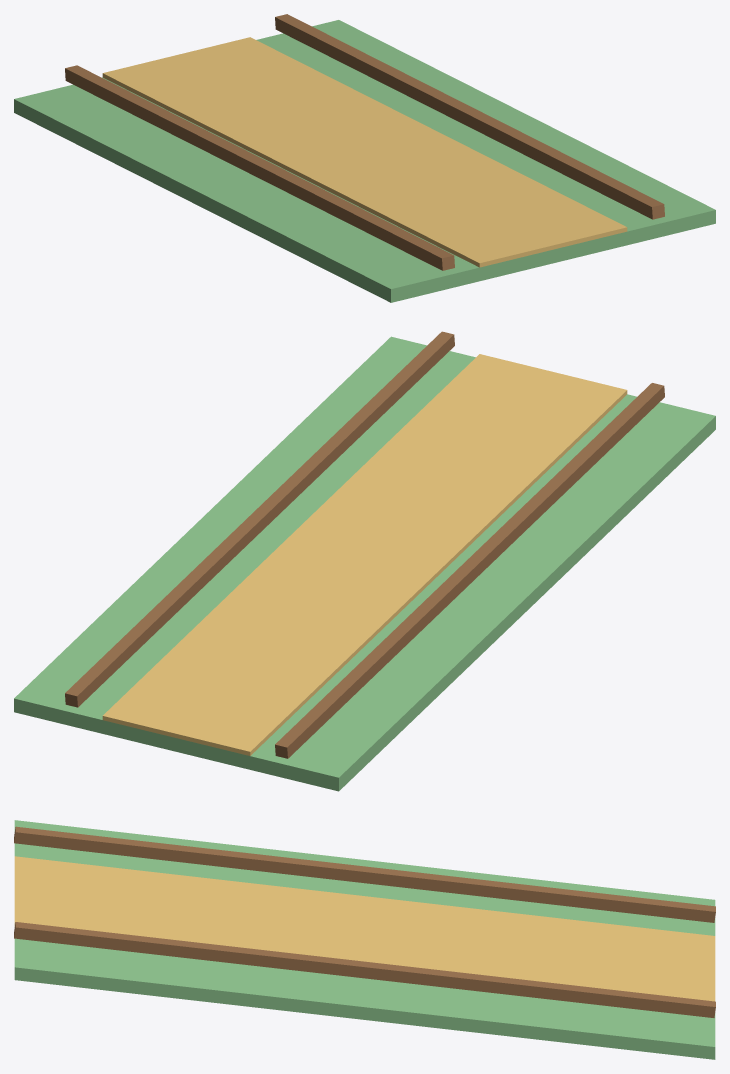
File: ROAD_DIRT_SLOPE_1x2_DOWN_050.glb
3 renders of one model, top to bottom at view 1: azimuth 30°, elevation 25°; view 2: azimuth 150°, elevation 25°; view 3: azimuth 270°, elevation 25°, orthographic. The views are drawn at different scales.
Parts seen in each view (by area): view 1: ROAD_DIRT_SLOPE_1x2_DOWN_050_Visual; view 2: ROAD_DIRT_SLOPE_1x2_DOWN_050_Visual; view 3: ROAD_DIRT_SLOPE_1x2_DOWN_050_Visual.
Part boxes in pixels (x1,y1,x2,y2): ROAD_DIRT_SLOPE_1x2_DOWN_050_Visual: (14, 14, 715, 302); ROAD_DIRT_SLOPE_1x2_DOWN_050_Visual: (14, 331, 715, 791); ROAD_DIRT_SLOPE_1x2_DOWN_050_Visual: (14, 820, 715, 1059).
Size of what is drawn, in the model's own units: 1.98 by 0.6847 by 3.99.
